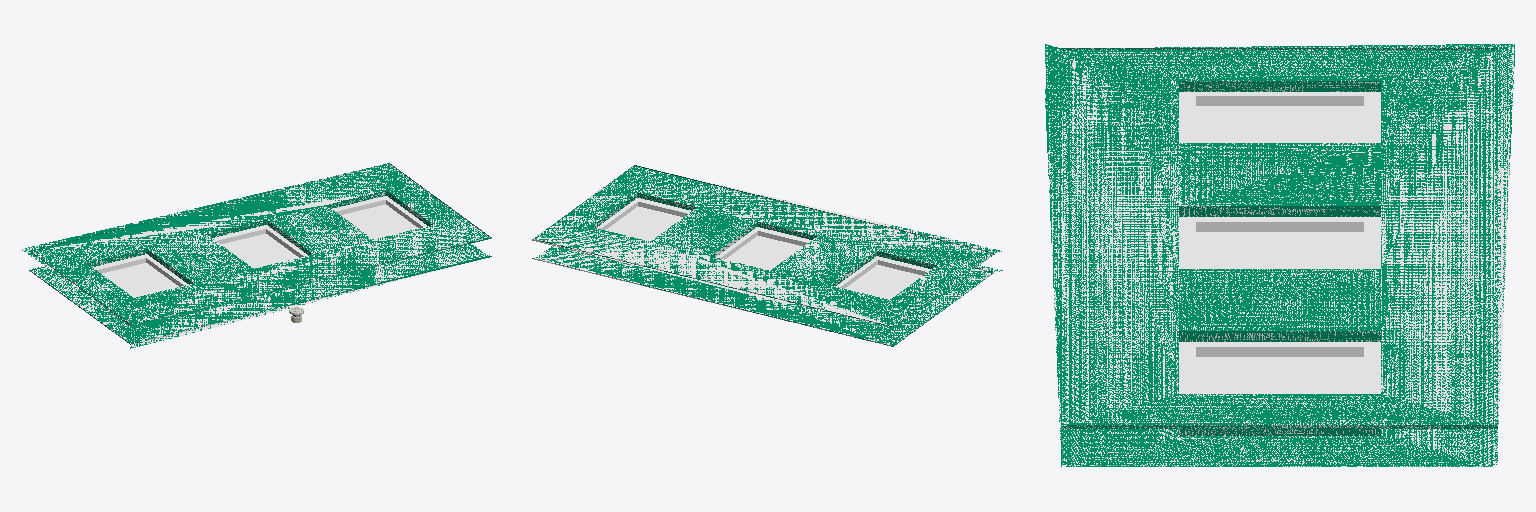
URDF robot description (right-push-door):
<robot name="right-push-door">
	<link name="base" />
	<link name="link_0">
		<visual name="out-frame">
			<origin xyz="0 0 0" />
			<geometry>
				<mesh filename="texture_dae/frame.dae" scale="1.024851127275158 1.024851127275158 1.024851127275158" />
			</geometry>
		</visual>
		<collision>
			<origin xyz="0 0 0" />
			<geometry>
				<mesh filename="texture_dae/frame.dae" scale="1.024851127275158 1.024851127275158 1.024851127275158" />
			</geometry>
		</collision>
	</link>
	<joint name="joint_0" type="fixed">
		<origin rpy="1.570796326794897 0 -1.570796326794897" xyz="0 0 0" />
		<child link="link_0" />
		<parent link="base" />
	</joint>
	<link name="link_1">
		<visual name="surf-board">
			<origin xyz="0.47326599738277275 -0.9240887988804775 0" />
			<geometry>
				<mesh filename="texture_dae/board.dae" scale="1.024851127275158 1.024851127275158 1.024851127275158" />
			</geometry>
		</visual>
		<collision>
			<origin xyz="0.47326599738277275 -0.9240887988804775 0" />
			<geometry>
				<mesh filename="texture_dae/board.dae" scale="1.024851127275158 1.024851127275158 1.024851127275158" />
			</geometry>
		</collision>
	</link>
	<joint name="joint_1" type="revolute">
		<origin xyz="-0.47326599738277275 0.9240887988804775 0" />
		<axis xyz="0 -1 0" />
		<child link="link_1" />
		<parent link="link_0" />
		<limit lower="-1.5079644737231006" upper="-0.0" />
	</joint>
	<link name="link_2">
		<visual name="handle">
			<origin xyz="0 0 0" />
			<geometry>
				<mesh filename="texture_dae/9962039.dae" scale="1.2942130342378562 1.2942130342378562 1.2942130342378562" />
			</geometry>
		</visual>
		<collision>
			<origin xyz="0 0 0" />
			<geometry>
				<mesh filename="texture_dae/9962039.dae" scale="1.2942130342378562 1.2942130342378562 1.2942130342378562" />
			</geometry>
		</collision>
	</link>
	<joint name="joint_2" type="revolute">
		<origin xyz="0.8689608918199028 -1.0228545654002308 0.0472825586221848" />
		<child link="link_2" />
		<parent link="link_1" />
		<axis xyz="0 0 1" />
		<limit lower="0" upper="0" />
	</joint>
</robot>

--- Render facts (derived) ---
3 views of the same robot in one strip: view 1: azimuth 30°, elevation 25°; view 2: azimuth 150°, elevation 25°; view 3: azimuth 270°, elevation 25° (orthographic).
Robot: right-push-door — 4 links, 3 joints (2 revolute, 1 fixed); root link base; default pose: all joints at 0.
Links seen in each view (by area): view 1: link_1; view 2: link_1; view 3: link_1.
Link boxes in pixels (left/top/right/bottom): link_1: left=21, top=163, right=491, bottom=348; link_1: left=532, top=165, right=1002, bottom=346; link_1: left=1045, top=44, right=1514, bottom=466.
Bounding box of the posed robot: 1.82 × 0.949 × 0.1954 m (x, y, z).
Meshes: 3 distinct files referenced, 2 mesh visuals loaded (2 Collada DAE); not drawn: 1 (reference not matched to a file when rendering).
